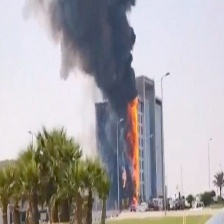fire: (128, 98, 144, 203)
smoke: (33, 1, 144, 147)
